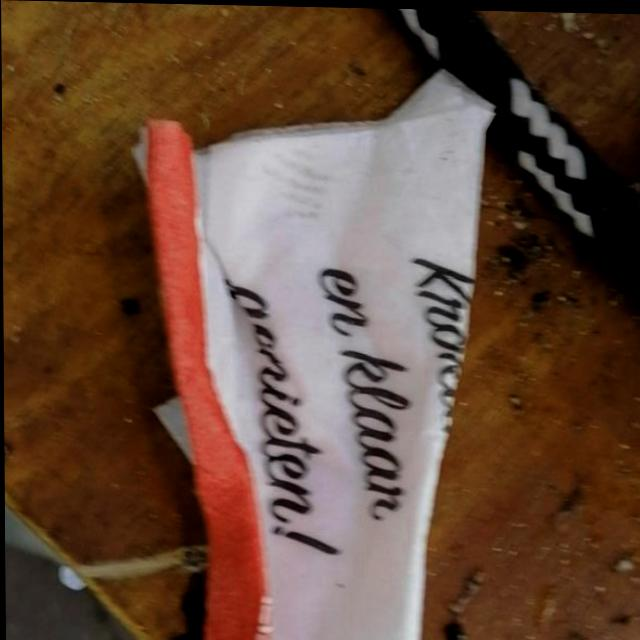Paper: (124, 56, 502, 640)
